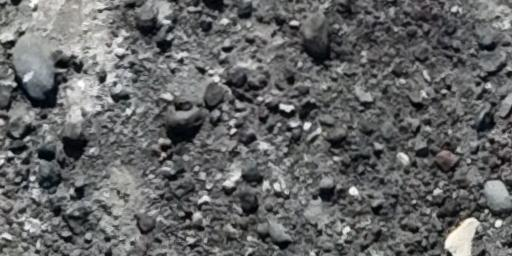skua: (293, 1, 343, 66)
